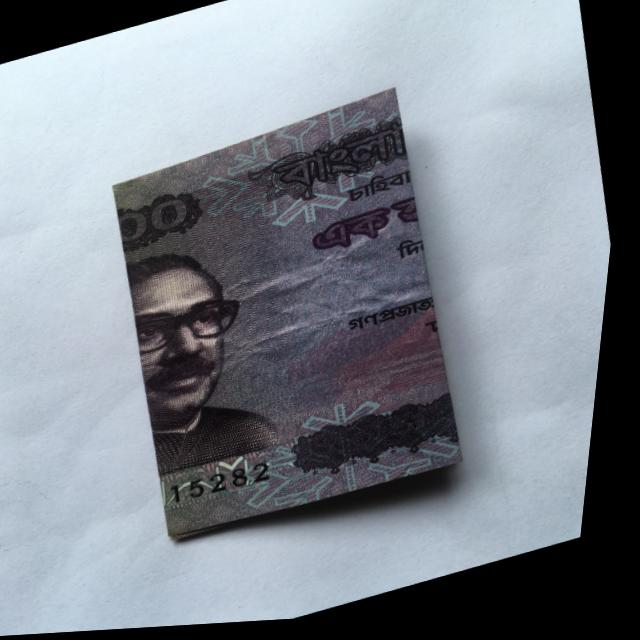Taka: (72, 80, 518, 567)
